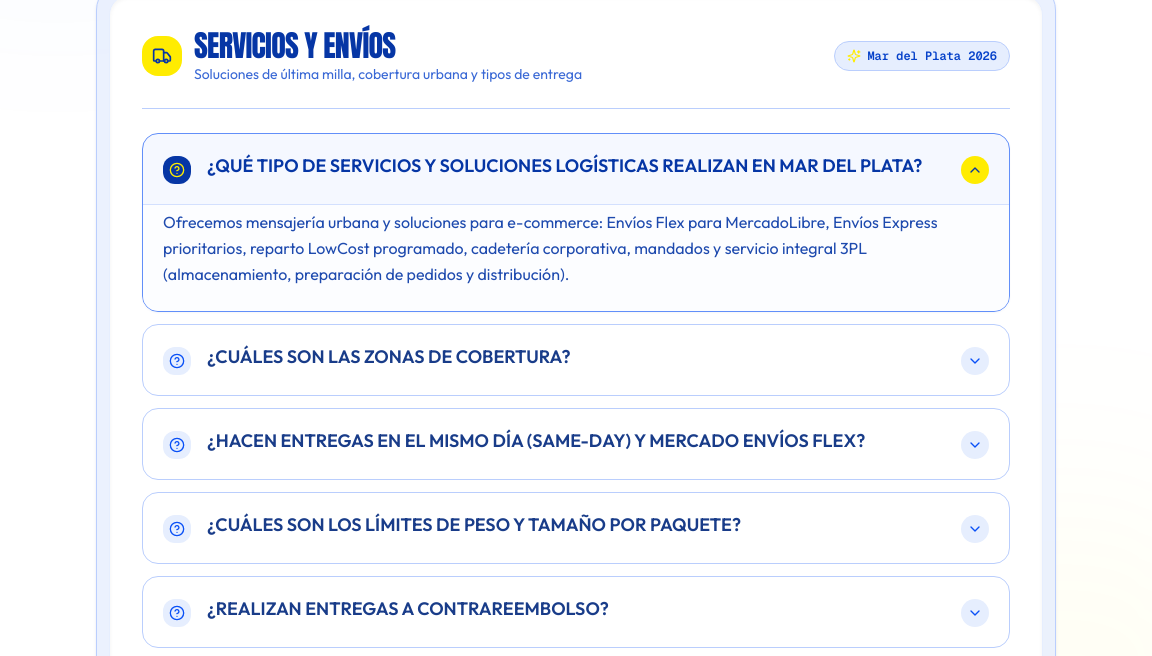
Test: PreguntasFrecuentesPage — Tier 1 & 2 › T1.4: expande una pregunta al hacer clic y muestra su respuesta correspondiente
(page scrolled)
Click the button "¿Cuáles son las zonas de cobertura?" at x=389, y=357, box left=143, top=325, right=1009, bottom=395
(page scrolled)
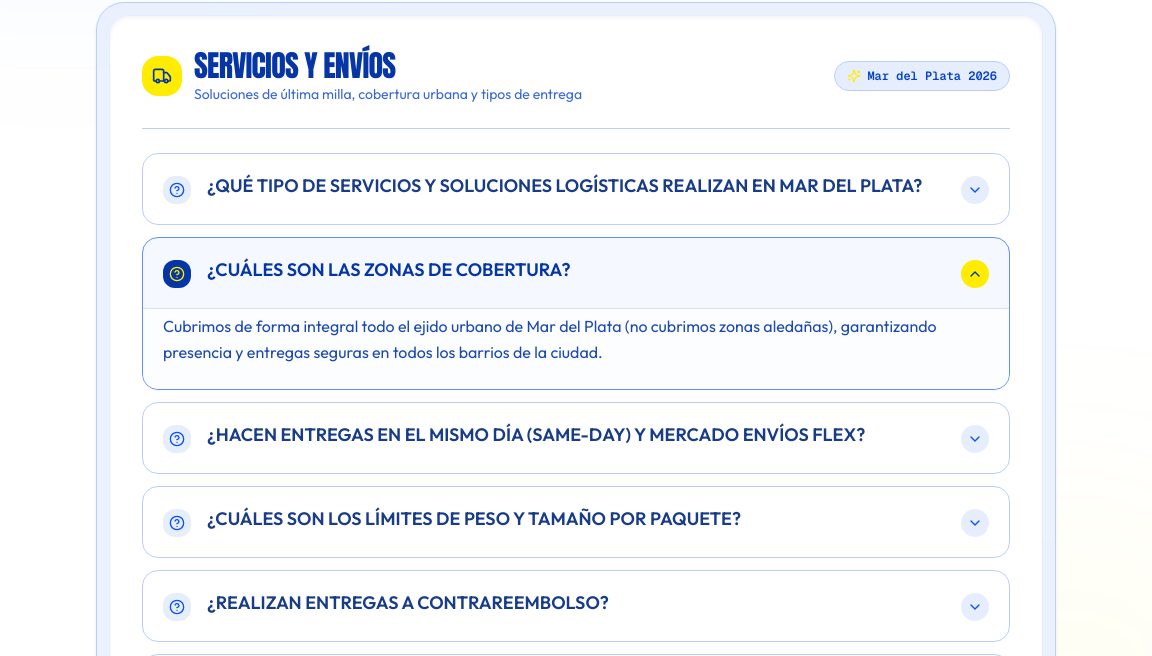
expect the text "Cubrimos de forma integral todo el ejido urbano" is shown: met, box left=163, top=316, right=936, bottom=362
